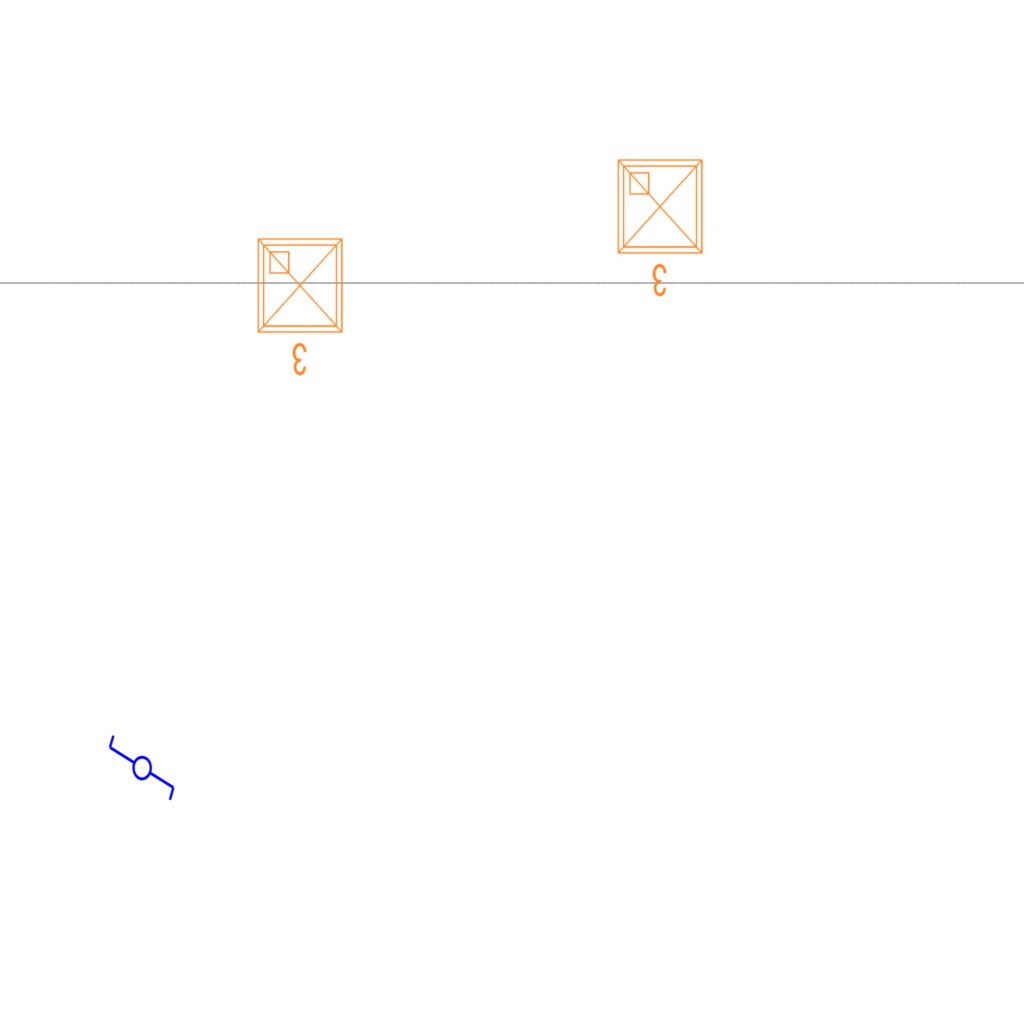Einbaudownlights_LED_Konferenzraeume: (250, 231, 354, 381), (610, 152, 714, 302)
Wechselschalter: (105, 733, 177, 811)
